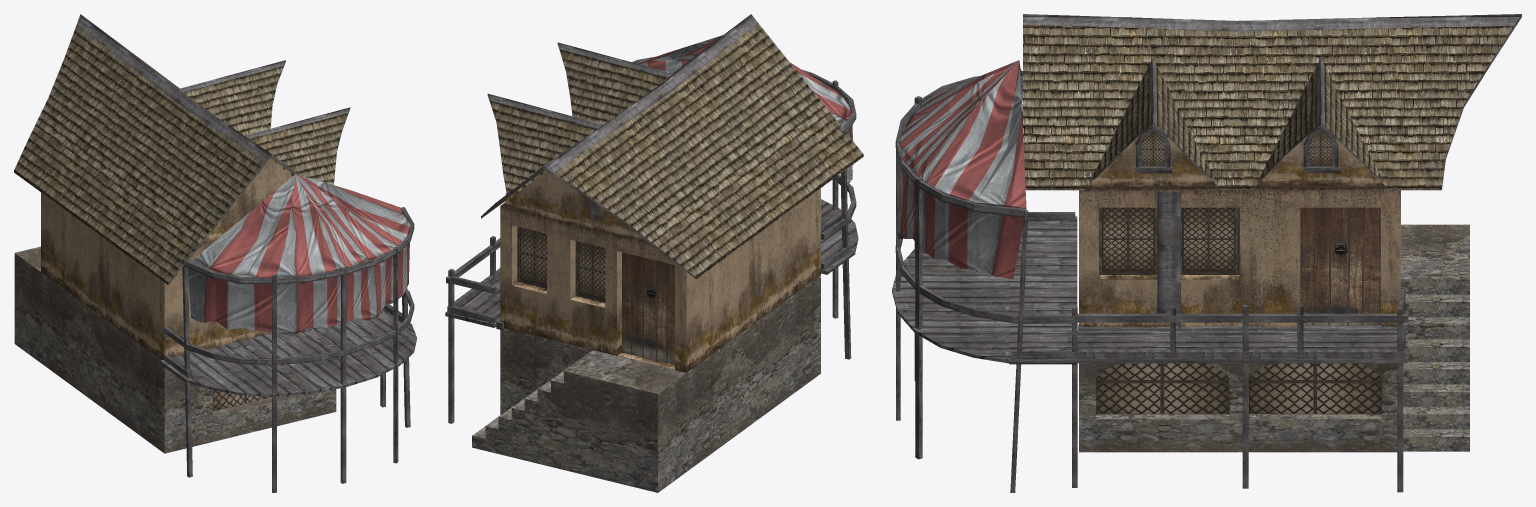
The model's file is v3_house3_LOD1.dae.
3 views of the same model, side by side, from view 1: azimuth 30°, elevation 25°; view 2: azimuth 150°, elevation 25°; view 3: azimuth 270°, elevation 25° (orthographic). The views are drawn at different scales.
Visible parts, largest first — view 1: roof_01, woodPlanks, cloth_001_c, bricks_old06, con_dirt_01, doorwindow_set; view 2: roof_01, bricks_old06, con_dirt_01, woodPlanks, doorwindow_set, cloth_001_c; view 3: roof_01, woodPlanks, doorwindow_set, bricks_old06, con_dirt_01, cloth_001_c.
Part boxes in pixels (box(x1,y1,x2,y2)): roof_01: box(14, 24, 347, 284); woodPlanks: box(76, 14, 416, 492); cloth_001_c: box(188, 174, 410, 336); bricks_old06: box(14, 246, 336, 453); con_dirt_01: box(41, 159, 292, 360); doorwindow_set: box(212, 390, 271, 411); roof_01: box(483, 22, 863, 278); bricks_old06: box(472, 275, 820, 492); con_dirt_01: box(500, 171, 820, 372); woodPlanks: box(445, 14, 858, 423); doorwindow_set: box(517, 227, 674, 364); cloth_001_c: box(636, 35, 853, 185); roof_01: box(1023, 24, 1513, 190); woodPlanks: box(892, 14, 1521, 492); doorwindow_set: box(1096, 131, 1381, 414); bricks_old06: box(1079, 224, 1469, 452); con_dirt_01: box(1079, 125, 1400, 327); cloth_001_c: box(897, 60, 1026, 279).
Bounding box in the file's own units: 6.85 × 8.28 × 12.
